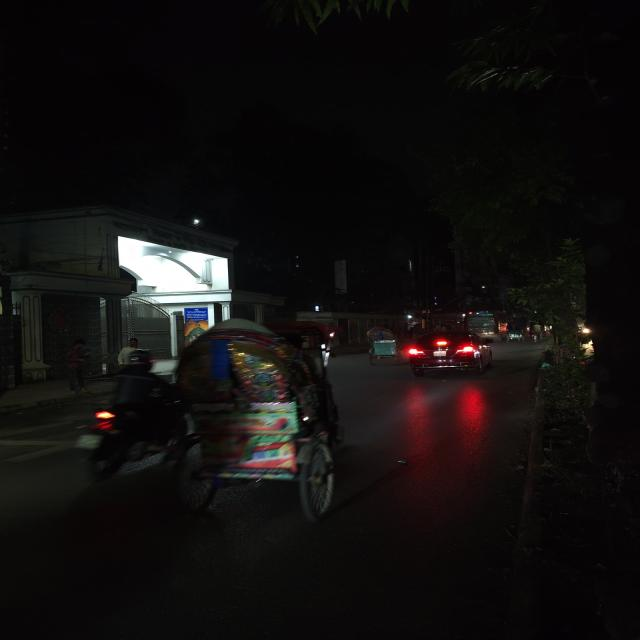bicycle: (530, 323, 544, 345)
bus: (461, 308, 510, 338)
car: (397, 322, 497, 378)
cng: (506, 323, 526, 345)
motorcycle: (52, 337, 190, 491)
rickshaw: (187, 312, 342, 524), (358, 325, 402, 367)
